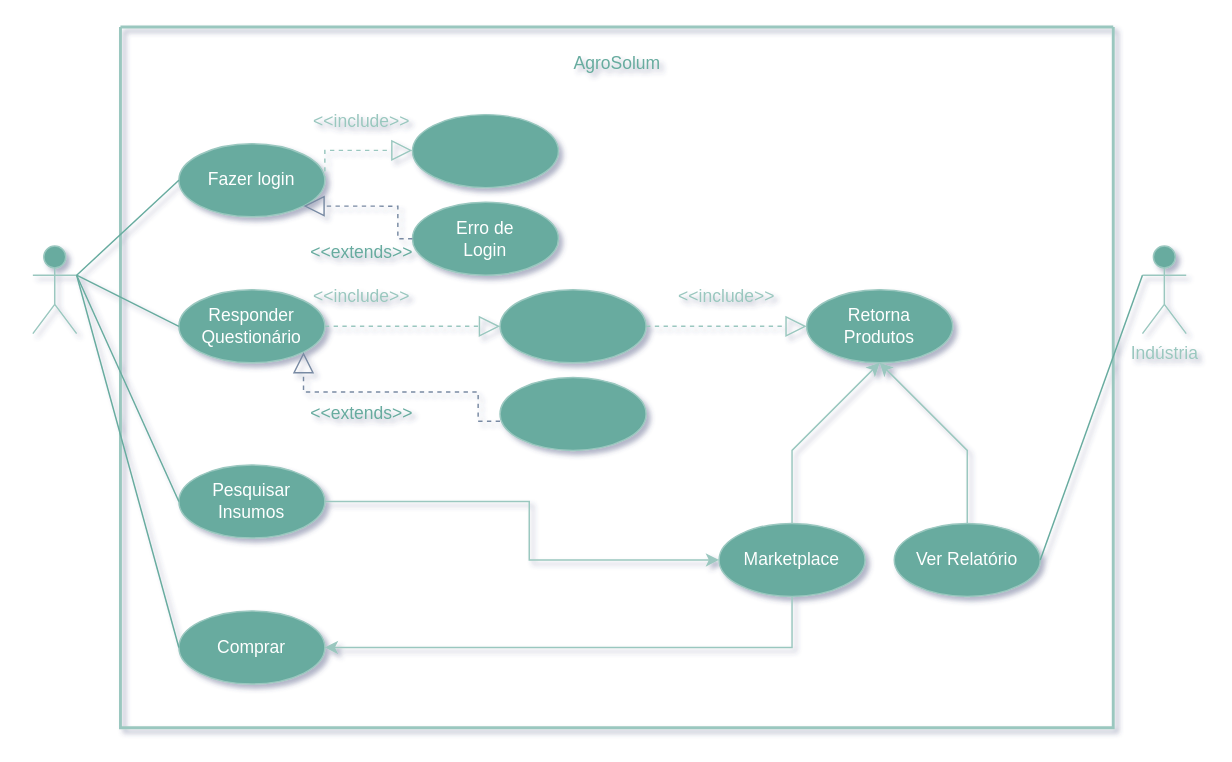
The diagram is 1232 pixels wide and 762 high, and some of its shapes have lost their labels. The shapes that lost their labels are listed below. From the top down, each one's centre as x and y in pixels, then its label:
At [484,150]: "Verificar Senha".
At [54,289]: "Usuário".
At [572,325]: "Comunicação com API".
At [572,413]: "Erro de Comunicação".
